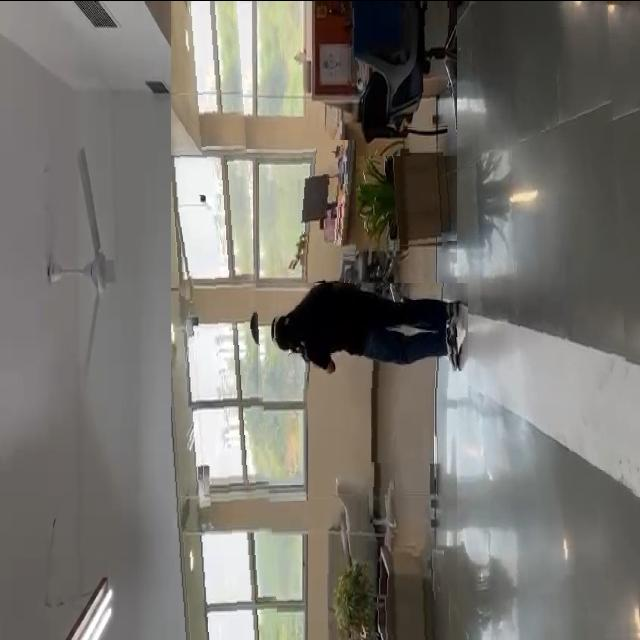floor: (457, 0, 640, 640)
furniture: (345, 7, 511, 129), (355, 155, 486, 250), (328, 541, 448, 640), (326, 458, 394, 596), (287, 139, 356, 261)
moving_object: (271, 282, 468, 397)
wall: (171, 0, 279, 640)
